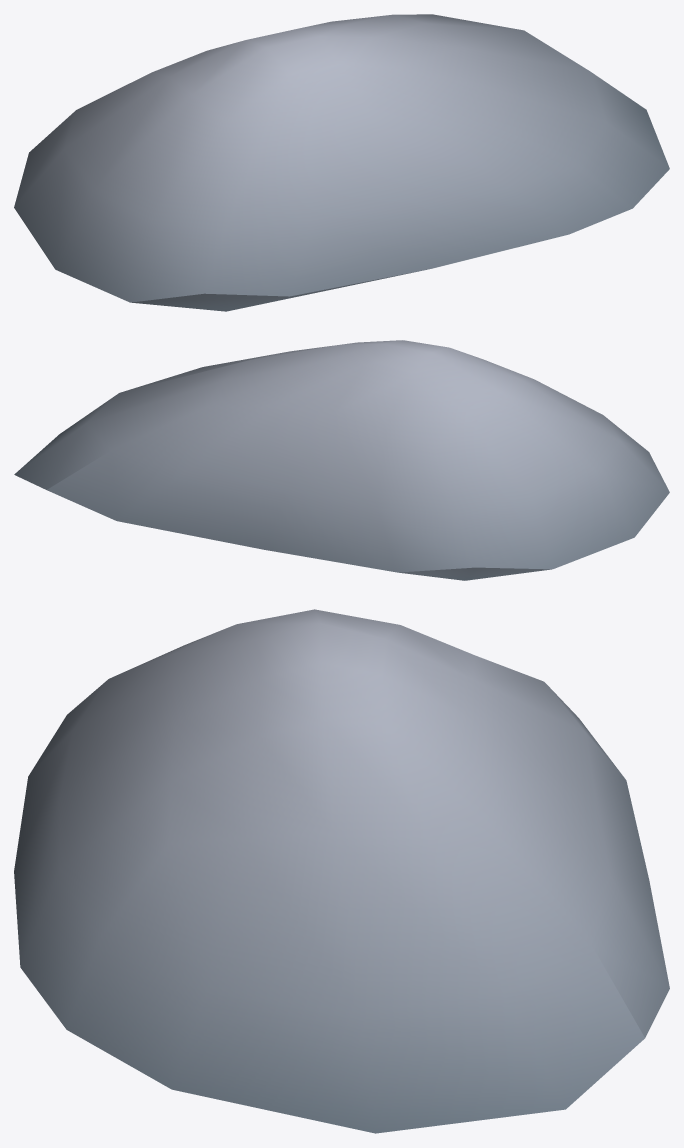
Rendered from snow_1.glb.
3 views of the same model, one above another, from view 1: azimuth 30°, elevation 25°; view 2: azimuth 150°, elevation 25°; view 3: azimuth 270°, elevation 25° (orthographic). The views are drawn at different scales.
Parts seen in each view (by area): view 1: snow_1; view 2: snow_1; view 3: snow_1.
Part boxes in pixels (<box>): snow_1: <box>14,14,669,311</box>; snow_1: <box>14,340,669,580</box>; snow_1: <box>14,609,669,1133</box>.
Bounding box in the file's own units: 4.12 × 1.24 × 2.73.
1 material, 1 textured.
